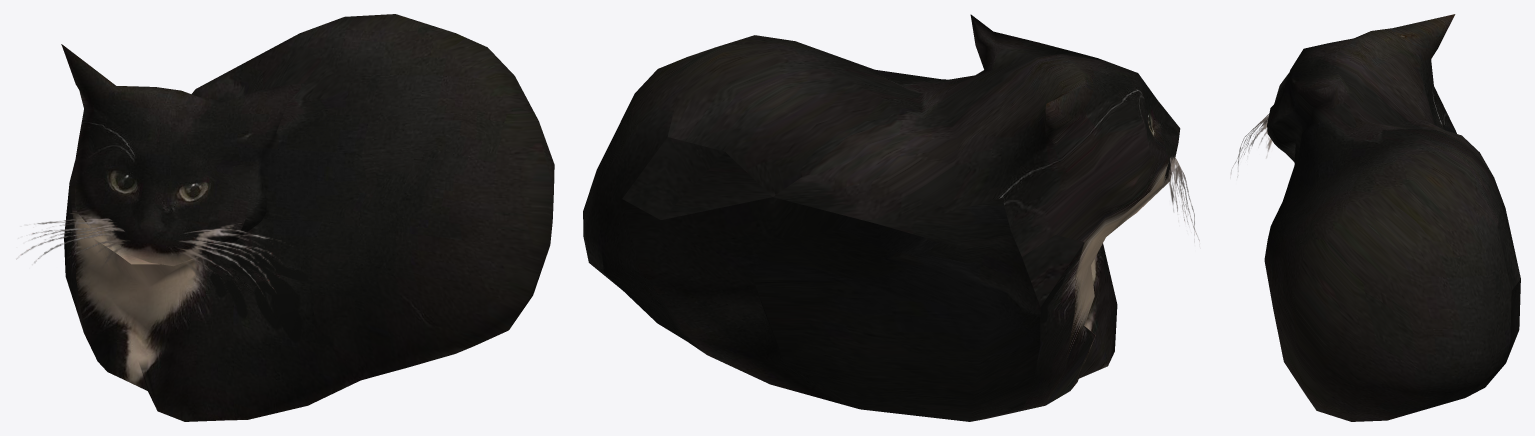
Rendered from UNIDINGUS.glb.
3 views of the same model, side by side, from view 1: azimuth 30°, elevation 25°; view 2: azimuth 150°, elevation 25°; view 3: azimuth 270°, elevation 25° (orthographic). The views are drawn at different scales.
Visible parts, largest first — view 1: dingus_dingus_0; view 2: dingus_dingus_0; view 3: dingus_dingus_0.
Part boxes in pixels (box(x1,y1,x2,y2)): dingus_dingus_0: box(17, 14, 554, 421); dingus_dingus_0: box(583, 14, 1199, 421); dingus_dingus_0: box(1231, 14, 1520, 421).
Bounding box in the file's own units: 1.66 × 0.9607 × 0.9373.
Materials: 2 (2 with a texture image).
